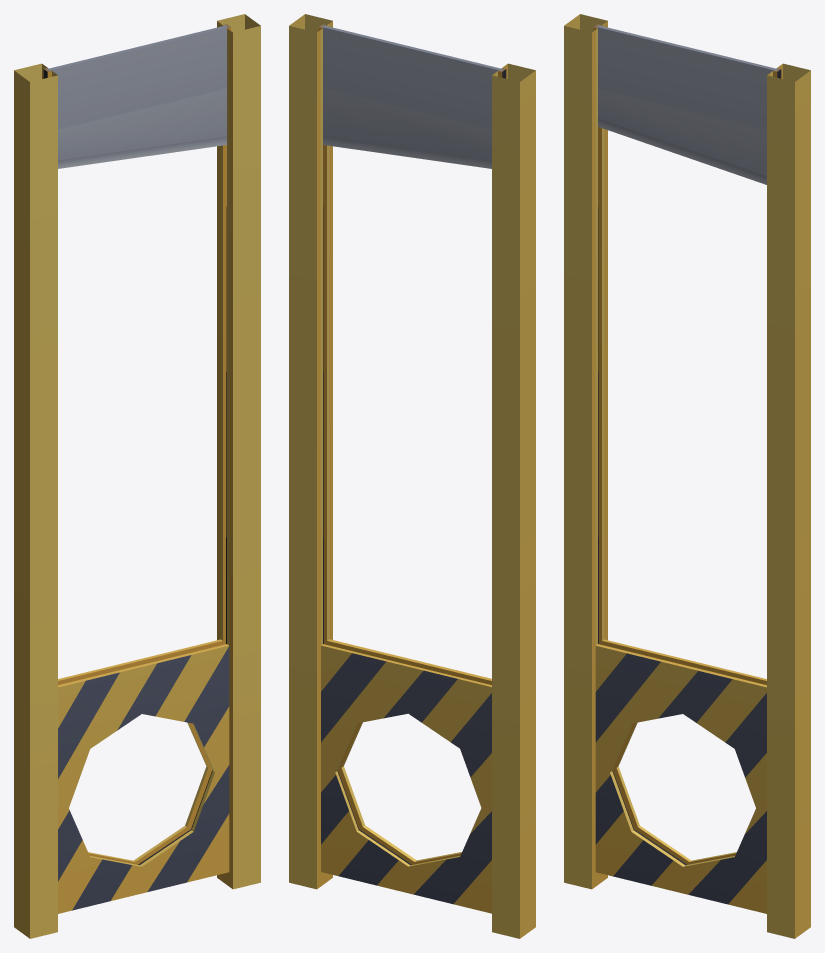
Rendered from squidgame_props_guillotine.fbx.
3 renders of one model, left to right at view 1: azimuth 30°, elevation 25°; view 2: azimuth 150°, elevation 25°; view 3: azimuth 330°, elevation 25°, orthographic.
Parts seen in each view (by area): view 1: squidgame_props_guillotine; view 2: squidgame_props_guillotine; view 3: squidgame_props_guillotine.
Boxes of the visible parts, x1,y1,x2,y2 form: squidgame_props_guillotine: [14, 14, 260, 938]; squidgame_props_guillotine: [289, 14, 535, 938]; squidgame_props_guillotine: [564, 14, 810, 938].
Size of the model in its own units: 1.56 by 5.53 by 0.189.
